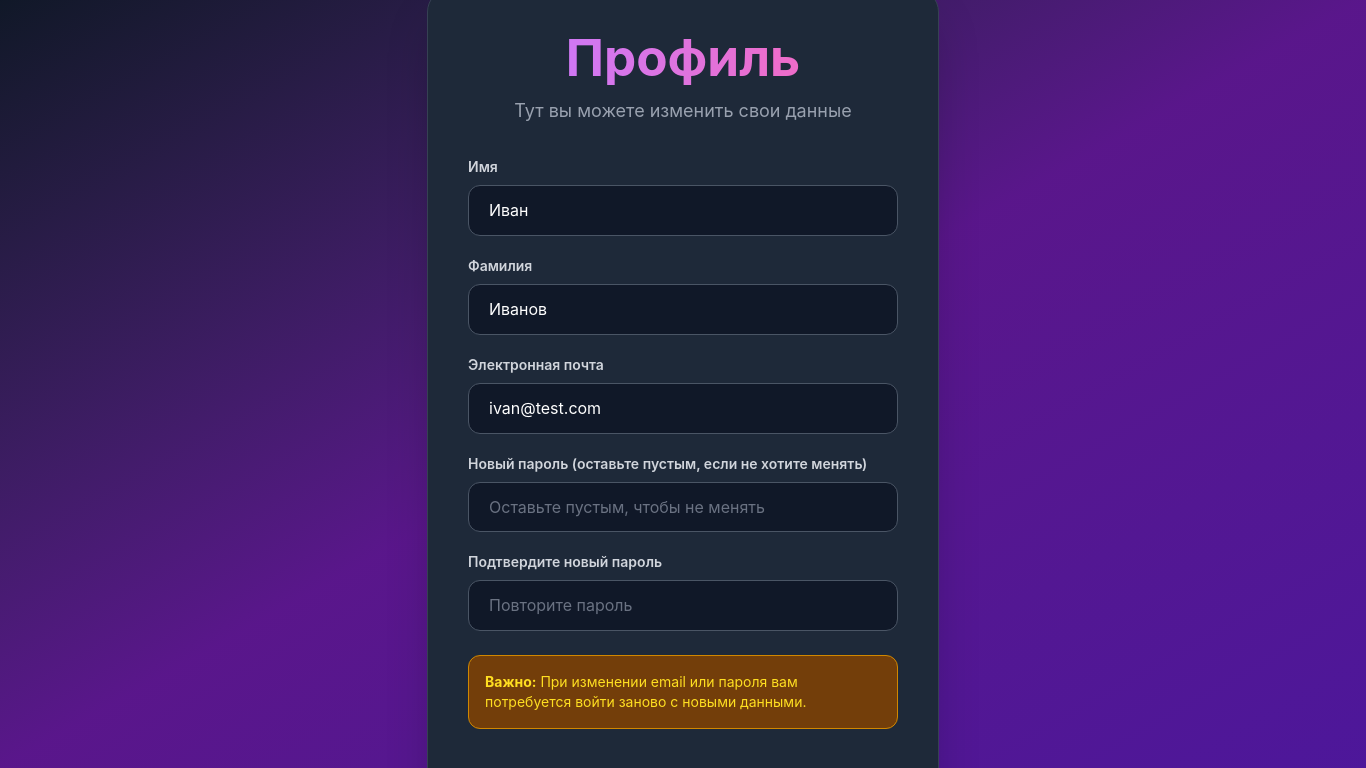
Profile Page Coverage › должен показывать уведомление 'Данные обновлены.' при смене email
Replace the text in the field below "Электронная почта" with "new@test.com" at {"x": 683, "y": 408}, box [468,383,898,434]
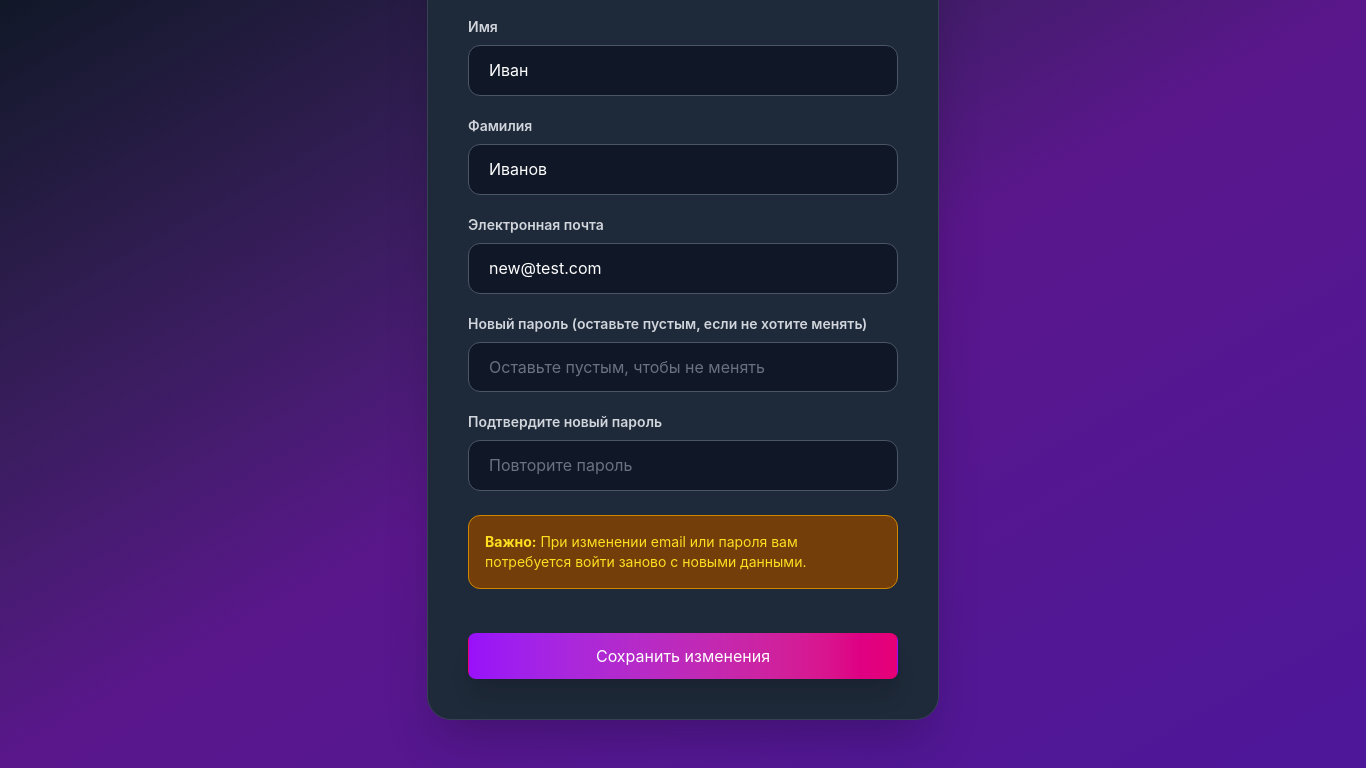
Click the button "Сохранить изменения" at {"x": 683, "y": 656}, box [468,633,898,679]
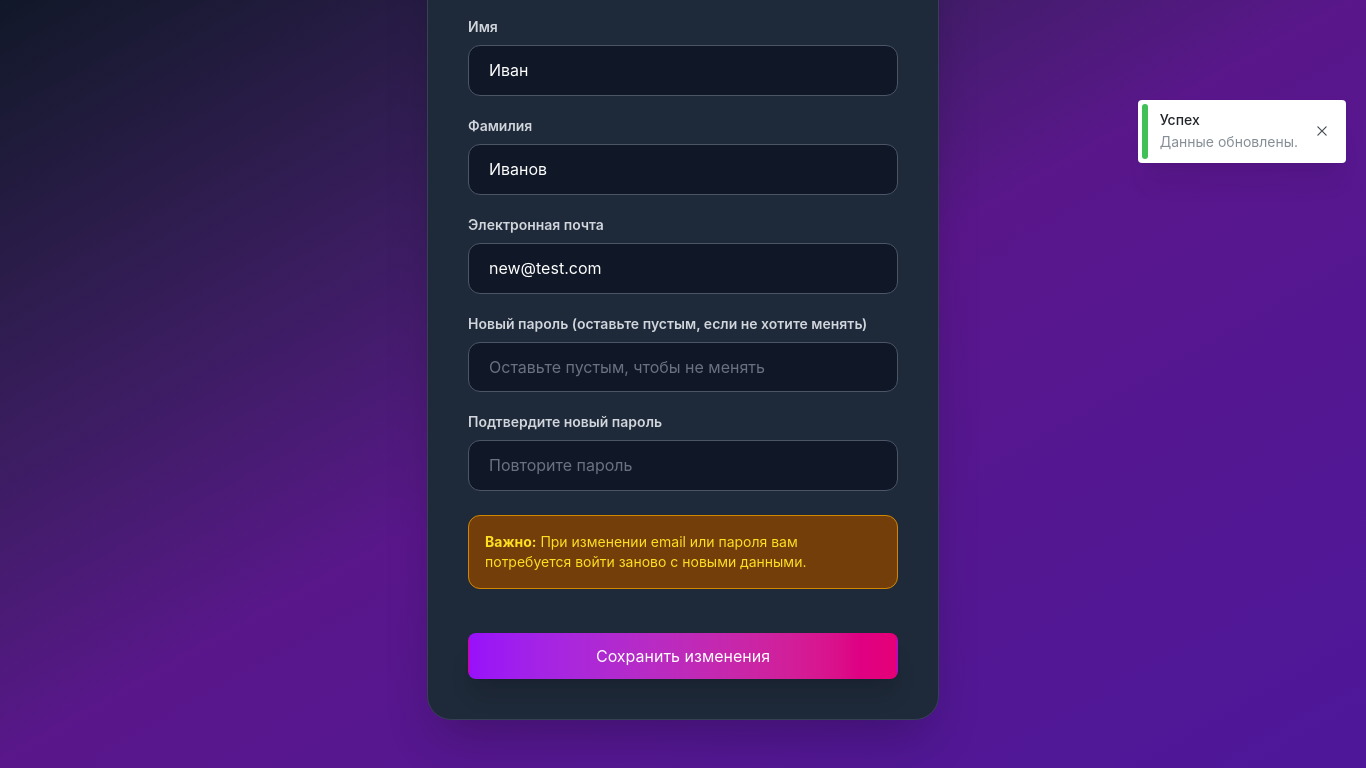
Check: the text "Данные обновлены." is shown, box [1160,132,1298,153]
